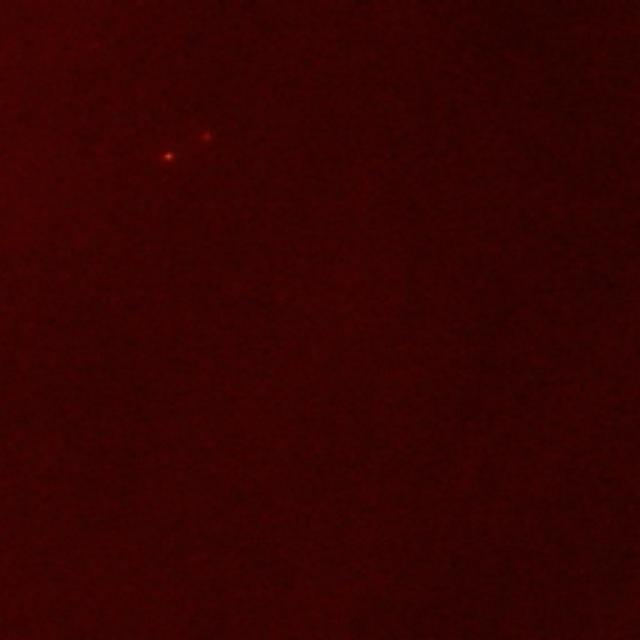Fragment: (162, 152, 178, 162)
